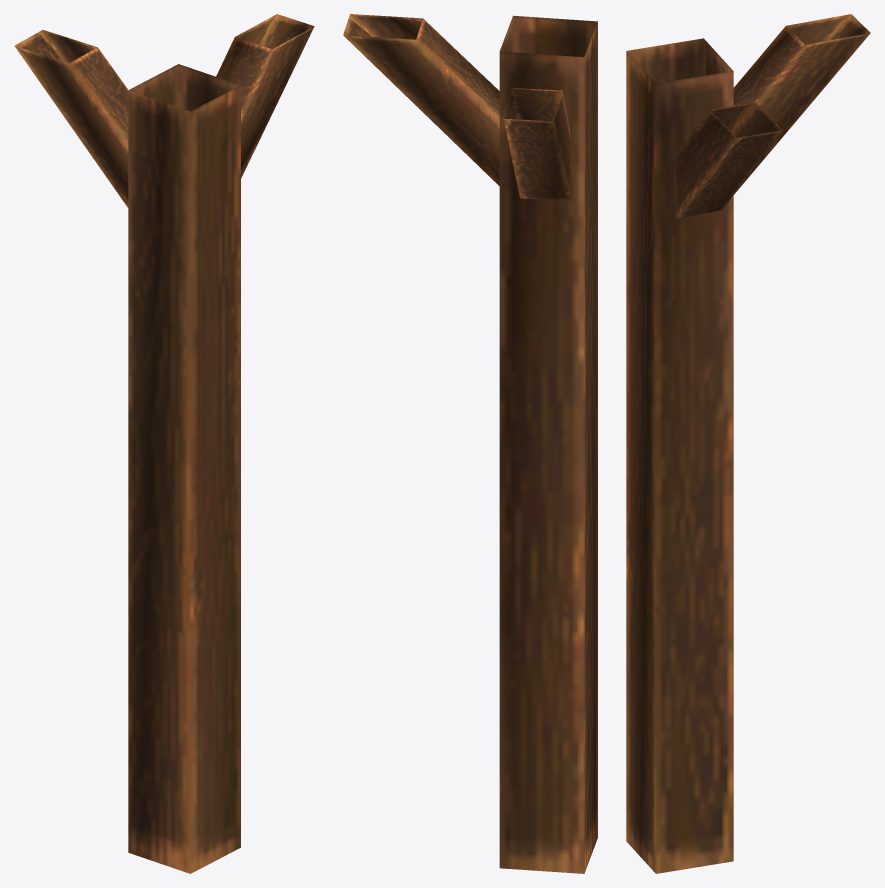
The model's file is SWORDLIGHT20_JAILPLATSUPPORT71.fbx.
3 views of the same model, side by side, from view 1: azimuth 30°, elevation 25°; view 2: azimuth 150°, elevation 25°; view 3: azimuth 270°, elevation 25° (orthographic). The views are drawn at different scales.
Visible parts, largest first — view 1: SWORDLIGHT20_JAILPLATSUPPORT71; view 2: SWORDLIGHT20_JAILPLATSUPPORT71; view 3: SWORDLIGHT20_JAILPLATSUPPORT71.
Boxes of the visible parts, x1=… form: SWORDLIGHT20_JAILPLATSUPPORT71: x1=14, y1=14, x2=314, y2=873; SWORDLIGHT20_JAILPLATSUPPORT71: x1=343, y1=14, x2=597, y2=873; SWORDLIGHT20_JAILPLATSUPPORT71: x1=626, y1=14, x2=870, y2=873.
Size of the model in its own units: 14129 by 42140 by 11776.
Materials: 1 (1 with a texture image).
